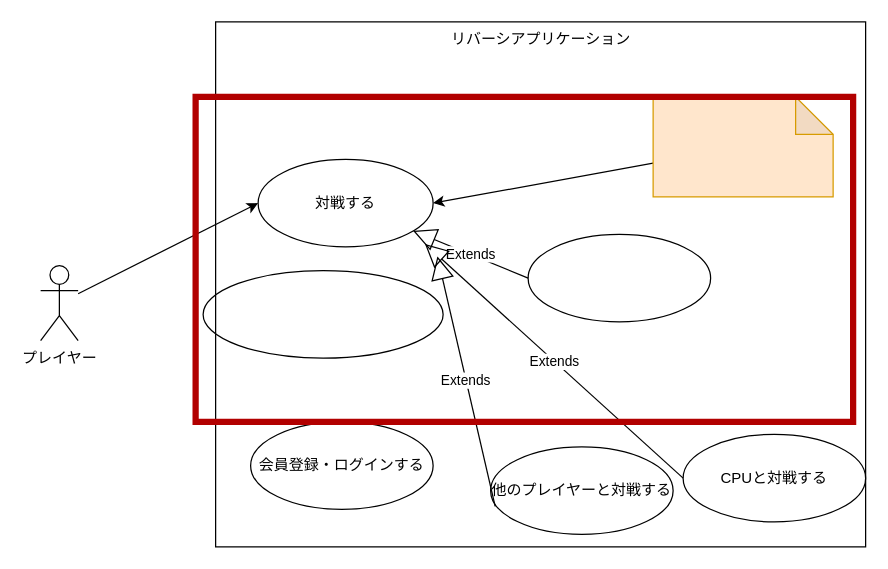
This 888x569 diagram has some shape labels left out. The centre of each missing label's shape, as x and y in pixels:
"- 対戦を開始する - 盤面を見る - 石を打つ - 勝敗を確認する" goes at (742,146).
"一人で交互に白黒打つ" goes at (619,277).
"自分の過去の対戦結果を確認する" goes at (322,313).
